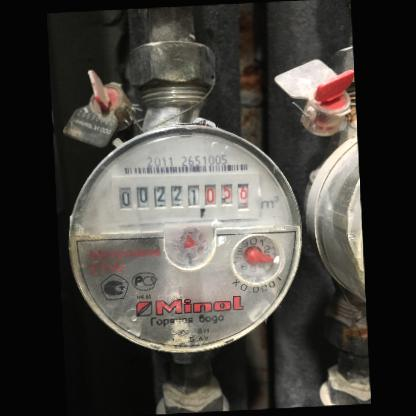digital_screen: (109, 172, 200, 219)
